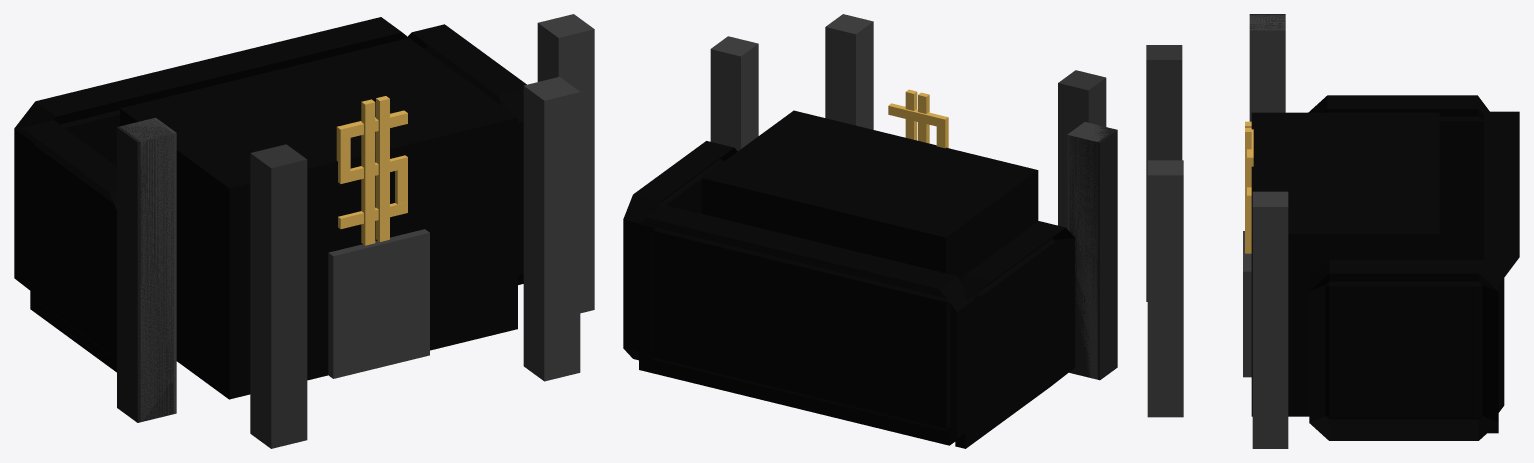
Rendered from bank.glb.
3 renders of one model, left to right at view 1: azimuth 30°, elevation 25°; view 2: azimuth 150°, elevation 25°; view 3: azimuth 270°, elevation 25°, orthographic. The views are drawn at different scales.
Visible parts, largest first — view 1: Cube.318, Cube.325, Cube.321, Cube.323, Cube.322, Cube.326, Cube.320, Cube.310, Cube.324, Cube.327, Cube.312, Cube.311 (+3 smaller); view 2: Cube.326, Cube.318, Cube.325, Cube.322, Cube.327, Cube.310, Cube.323, Cube.324, Cube.321, Cube.316, Cube.311; view 3: Cube.327, Cube.318, Cube.325, Cube.323, Cube.324, Cube.326, Cube.321, Cube.310, Cube.320, Cube.311, Cube.322.
Boxes of the visible parts, bbox=[...] form: Cube.318: bbox=[120, 38, 517, 399]; Cube.325: bbox=[22, 120, 116, 372]; Cube.321: bbox=[250, 144, 307, 448]; Cube.323: bbox=[523, 77, 580, 381]; Cube.322: bbox=[117, 118, 173, 422]; Cube.326: bbox=[14, 17, 409, 292]; Cube.320: bbox=[328, 229, 429, 378]; Cube.310: bbox=[120, 117, 176, 421]; Cube.324: bbox=[537, 14, 594, 313]; Cube.327: bbox=[408, 24, 526, 284]; Cube.312: bbox=[361, 99, 375, 245]; Cube.311: bbox=[376, 96, 389, 241]; Cube.326: bbox=[639, 205, 974, 445]; Cube.318: bbox=[701, 110, 1038, 281]; Cube.325: bbox=[955, 221, 1075, 448]; Cube.322: bbox=[1069, 125, 1117, 380]; Cube.327: bbox=[623, 141, 737, 360]; Cube.310: bbox=[1067, 122, 1108, 379]; Cube.323: bbox=[825, 14, 873, 129]; Cube.324: bbox=[710, 36, 758, 150]; Cube.321: bbox=[1058, 70, 1106, 228]; Cube.316: bbox=[888, 103, 948, 127]; Cube.311: bbox=[905, 89, 917, 140]; Cube.327: bbox=[1309, 259, 1498, 440]; Cube.318: bbox=[1251, 112, 1439, 416]; Cube.325: bbox=[1308, 95, 1489, 263]; Cube.323: bbox=[1147, 160, 1183, 417]; Cube.324: bbox=[1252, 191, 1288, 448]; Cube.326: bbox=[1483, 111, 1519, 433]; Cube.321: bbox=[1146, 45, 1182, 301]; Cube.310: bbox=[1249, 15, 1285, 121]; Cube.320: bbox=[1243, 231, 1251, 377]; Cube.311: bbox=[1245, 128, 1251, 253]; Cube.322: bbox=[1249, 14, 1285, 29].
Bounding box in the file's own units: 9.8 × 5.73 × 8.02.
